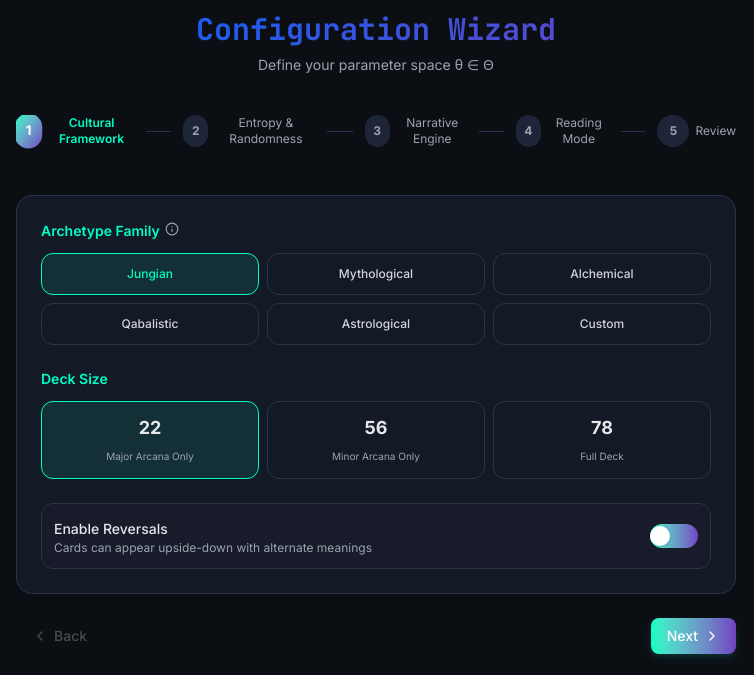
ConfigurePage — Reading Mode Selection › renders both Structural and Symbolic reading mode options
The width and height of the screenshot is (754, 675).
Click the button "4 Reading Mode" at (583, 131), box x1=516 y1=115 x2=649 y2=147
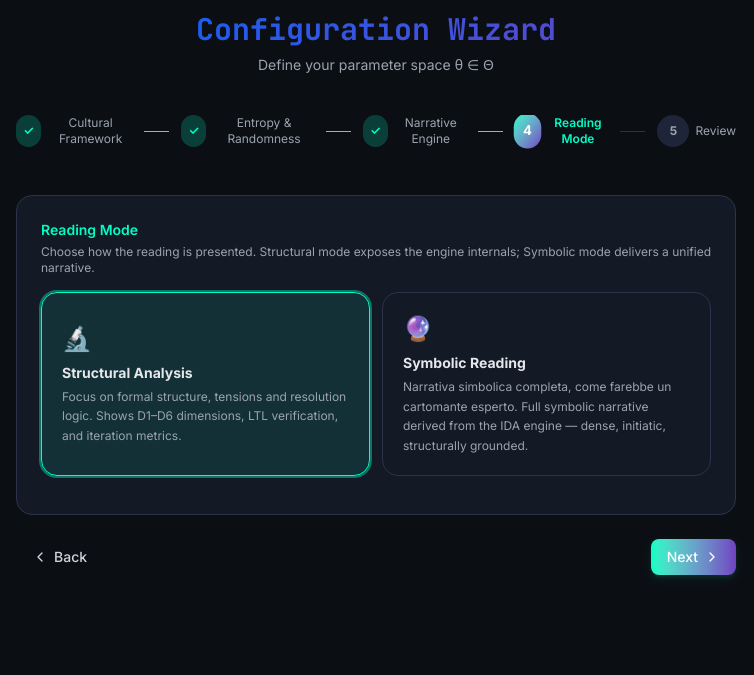
expect the text "Structural Analysis" is shown: met, box x1=62 y1=364 x2=193 y2=381
expect the text "Symbolic Reading" is shown: met, box x1=403 y1=354 x2=526 y2=371
